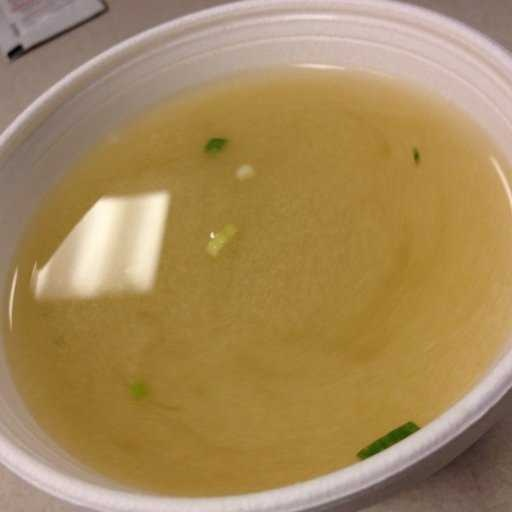soup: (1, 44, 505, 466)
